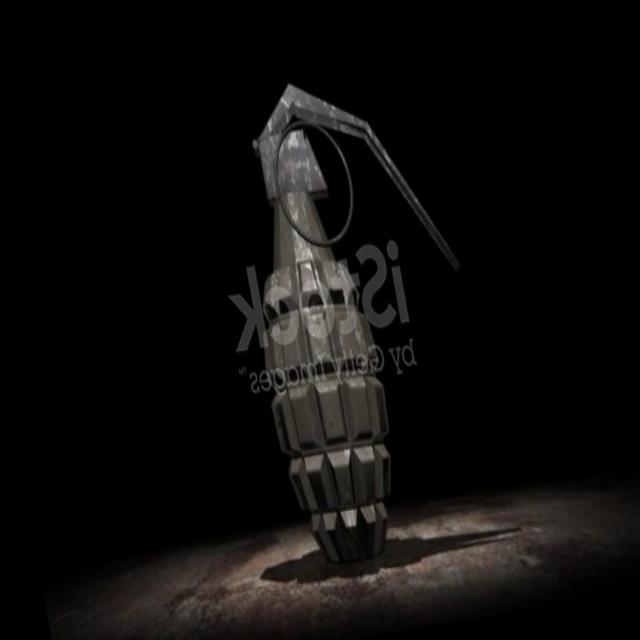grenade: (216, 61, 502, 568)
